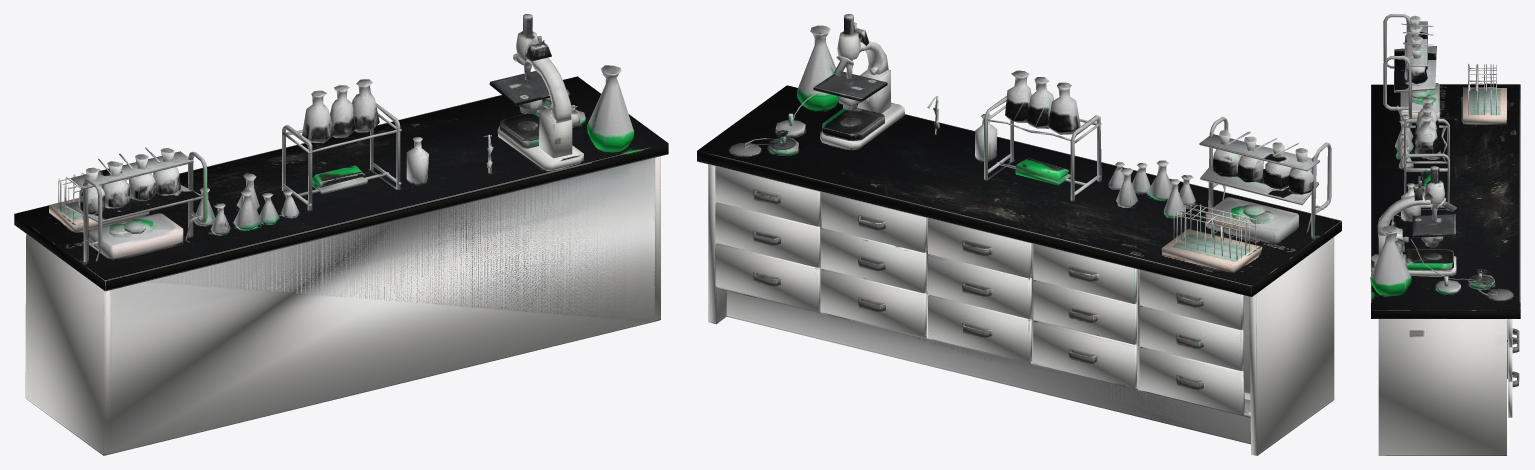
The model's file is office-lab-bench.glb.
The picture shows the model from 3 angles, left to right: view 1: azimuth 30°, elevation 25°; view 2: azimuth 150°, elevation 25°; view 3: azimuth 270°, elevation 25°; orthographic projection. The views are drawn at different scales.
Visible parts, largest first — view 1: lab-bench; view 2: lab-bench; view 3: lab-bench.
Boxes of the visible parts, x1,y1,x2,y2 form: lab-bench: [14, 14, 668, 455]; lab-bench: [697, 14, 1341, 455]; lab-bench: [1370, 14, 1520, 455].
Size of the model in its own units: 1.8 by 0.9262 by 0.5067.
Materials: 1 (1 with a texture image).
